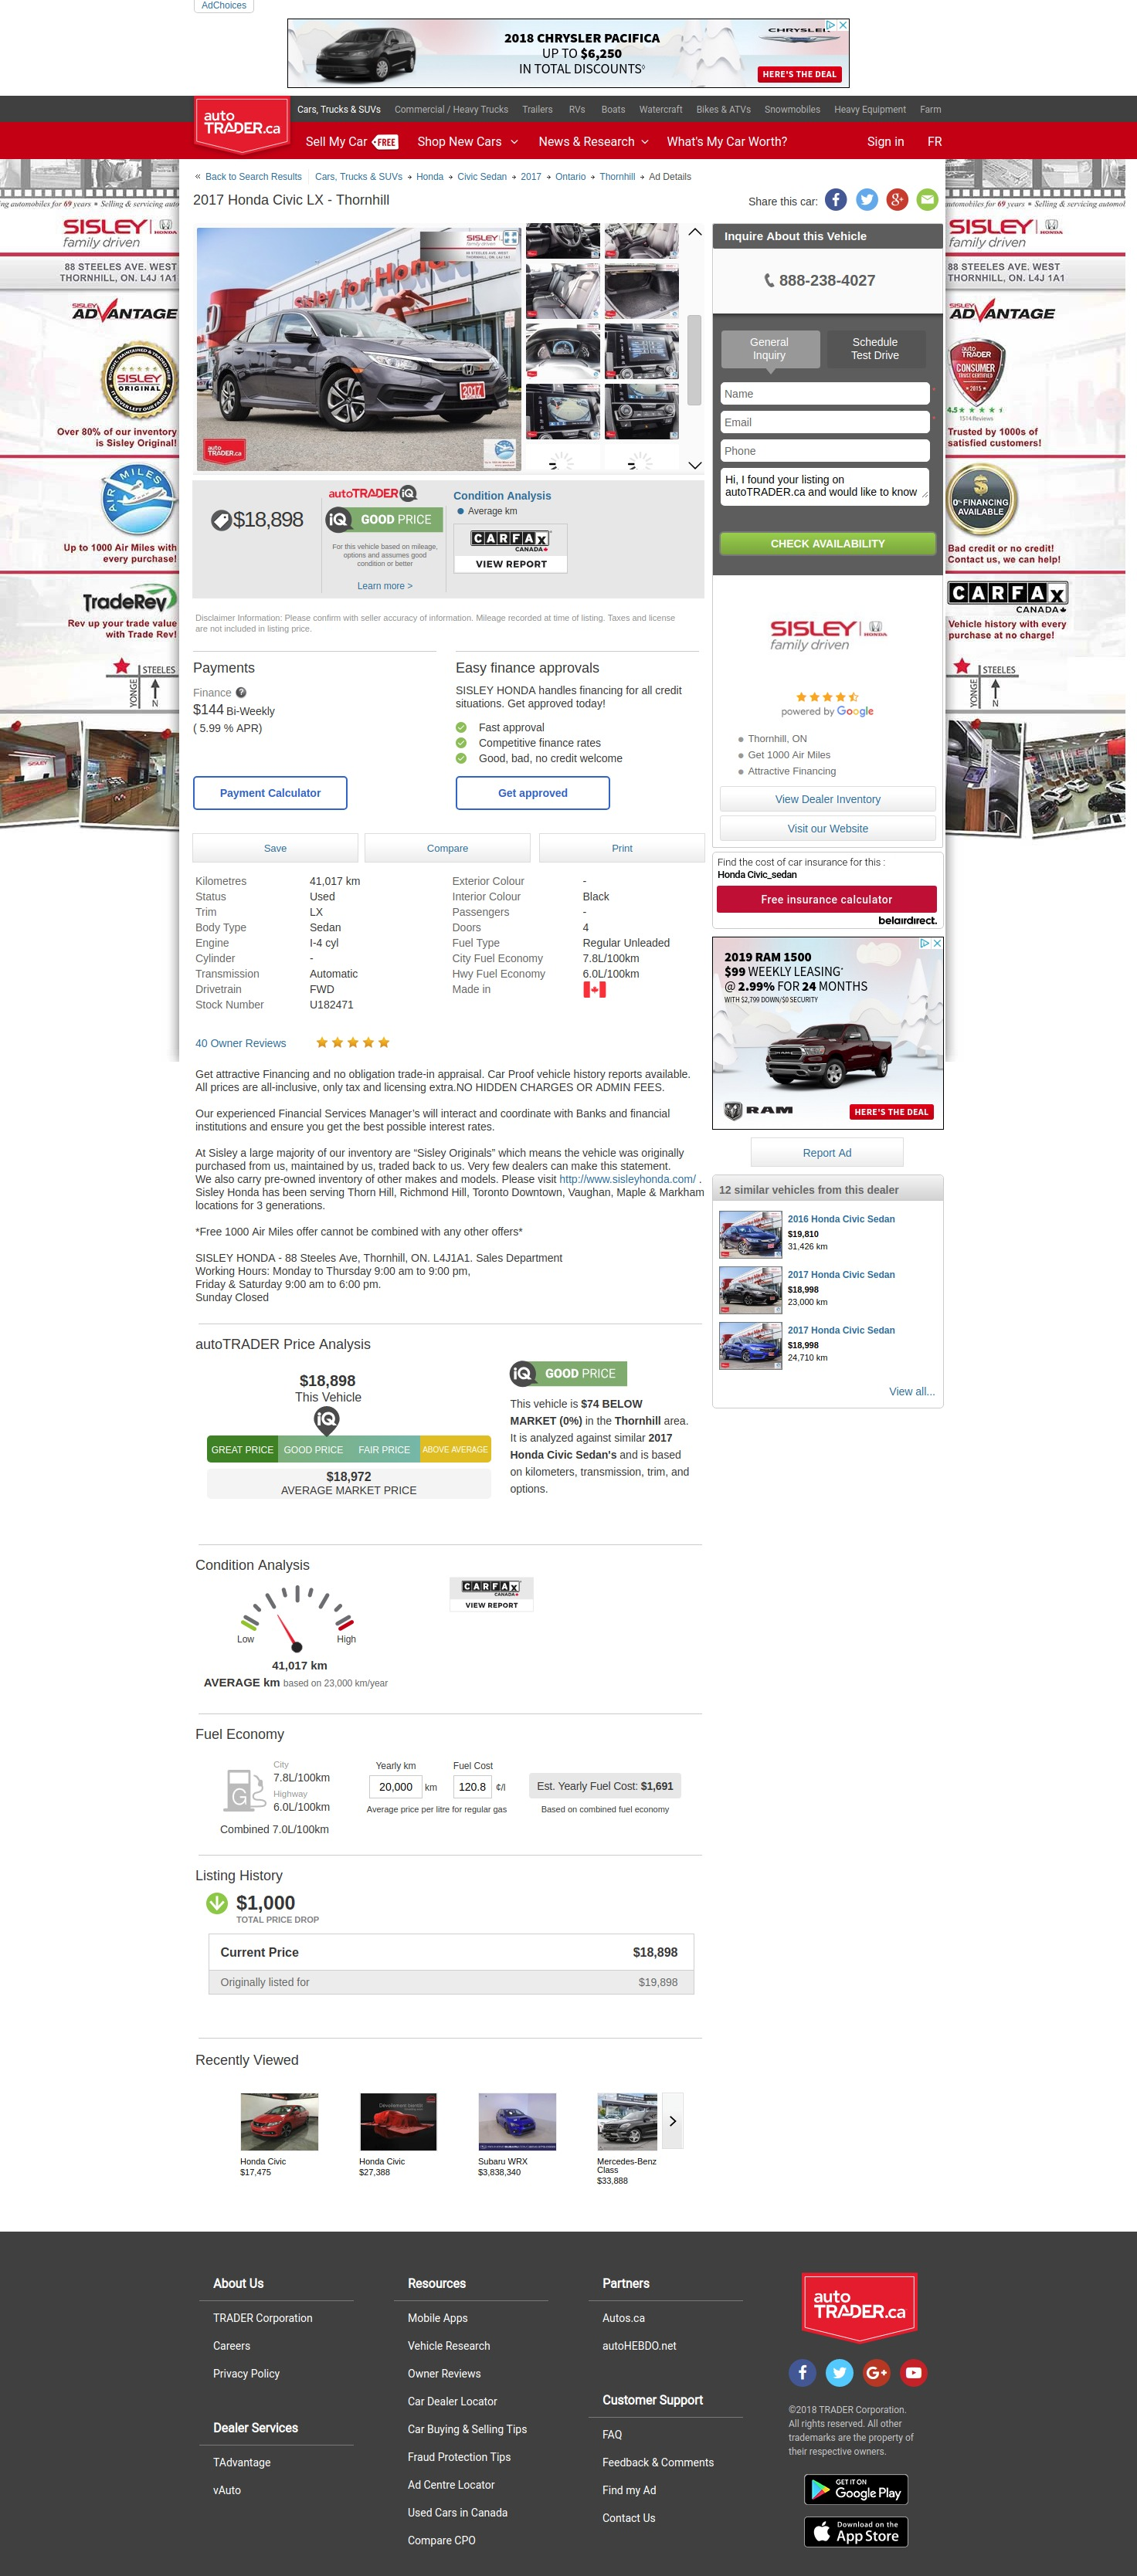car: (688, 462, 705, 471)
